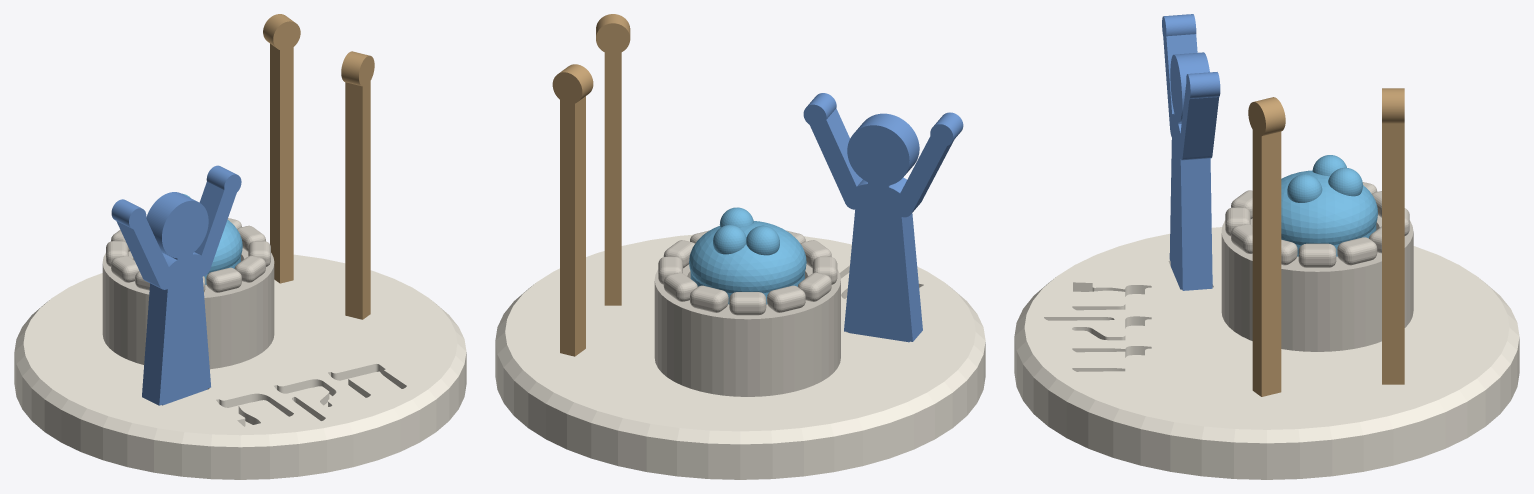
Rendered from chukat.glb.
3 views of the same model, side by side, from view 1: azimuth 30°, elevation 25°; view 2: azimuth 150°, elevation 25°; view 3: azimuth 270°, elevation 25° (orthographic). The views are drawn at different scales.
Visible parts, largest first — view 1: stage, singer, well, staff-2, staff-1, water; view 2: stage, well, singer, staff-1, water, staff-2; view 3: stage, well, singer, staff-2, water, staff-1.
Boxes of the visible parts, x1,y1,x2,y2 form: stage: (14,254,466,479); singer: (111,165,241,405); well: (102,218,274,369); staff-2: (341,51,374,319); staff-1: (263,14,300,283); water: (182,193,242,284); stage: (495,234,985,479); well: (654,230,840,396); singer: (803,93,963,342); staff-1: (552,64,593,356); water: (689,207,806,304); staff-2: (596,14,630,305); stage: (1014,227,1519,479); well: (1221,182,1413,351); singer: (1162,14,1220,290); staff-2: (1248,97,1285,396); water: (1281,155,1377,256); staff-1: (1382,88,1404,384).
Size of the model in its own units: 40 by 29.4 by 40.
